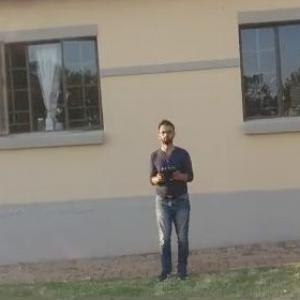follow: (148, 114, 200, 289)
